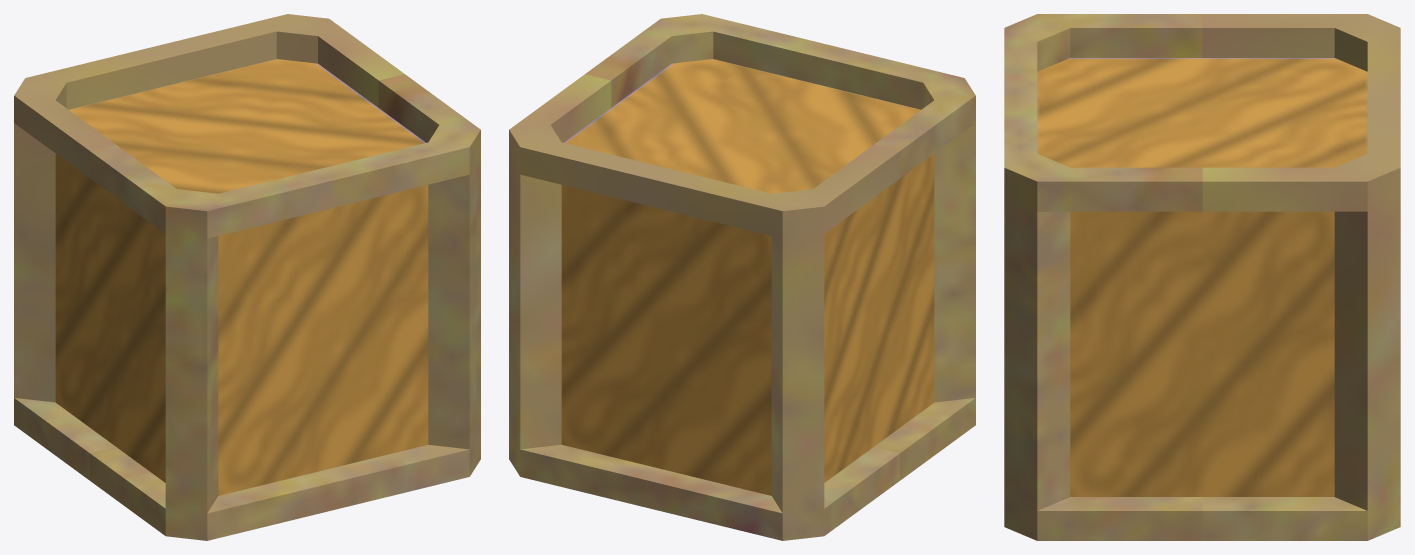
Rendered from bolt_crate.glb.
3 views of the same model, side by side, from view 1: azimuth 30°, elevation 25°; view 2: azimuth 150°, elevation 25°; view 3: azimuth 270°, elevation 25° (orthographic). The views are drawn at different scales.
Visible parts, largest first — view 1: BoltCrate; view 2: BoltCrate; view 3: BoltCrate.
Boxes of the visible parts, x1,y1,x2,y2 form: BoltCrate: (14, 14, 480, 540); BoltCrate: (509, 14, 975, 540); BoltCrate: (1004, 14, 1400, 540).
Size of the model in its own units: 1.2 by 1.2 by 1.2.
1 material, 1 textured.
